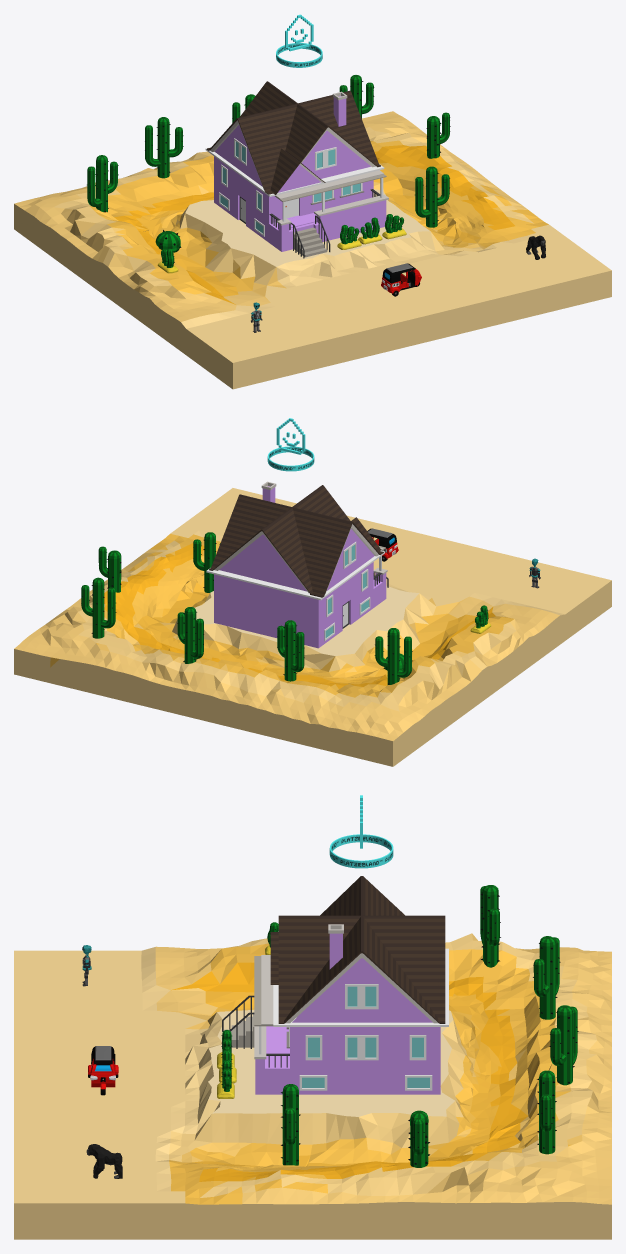
3 views of the same model, one above another, from view 1: azimuth 30°, elevation 25°; view 2: azimuth 150°, elevation 25°; view 3: azimuth 270°, elevation 25° (orthographic). The views are drawn at different scales.
Visible parts, largest first — view 1: Cube.001, Cube.391, Cylinder.044, Cylinder.037, Cylinder.045, TYPE_PREMIUM, VEHICLES_TUC_TUC, Cylinder.038, Cylinder.042; view 2: Cube.001, Cube.391, Cylinder.042, Cylinder.045, Cylinder.044, Cylinder.043, TYPE_PREMIUM, Cylinder.037, Cylinder.038, VEHICLES_TUC_TUC; view 3: Cube.001, Cube.391, Cylinder.044, Cylinder.043, Cylinder.045, Cylinder.042, Cylinder.037, TYPE_PREMIUM, VEHICLES_TUC_TUC, Cylinder.038, ANIMAL_GORILA.
Part boxes in pixels (x1,y1,x2,y2): Cube.001: (14, 111, 611, 389); Cube.391: (205, 81, 388, 258); Cylinder.044: (145, 117, 183, 178); Cylinder.037: (415, 166, 449, 227); Cylinder.045: (87, 155, 118, 212); TYPE_PREMIUM: (276, 14, 322, 67); VEHICLES_TUC_TUC: (381, 263, 421, 296); Cylinder.038: (426, 112, 450, 158); Cylinder.042: (339, 75, 374, 118); Cube.001: (14, 488, 611, 766); Cube.391: (206, 481, 388, 648); Cylinder.042: (81, 577, 116, 638); Cylinder.045: (374, 628, 412, 684); Cylinder.044: (277, 620, 304, 681); Cylinder.043: (177, 607, 203, 663); TYPE_PREMIUM: (267, 418, 314, 471); Cylinder.037: (193, 532, 220, 592); Cylinder.038: (98, 546, 121, 592); VEHICLES_TUC_TUC: (367, 528, 398, 561); Cube.001: (14, 933, 611, 1239); Cube.391: (222, 876, 448, 1094); Cylinder.044: (533, 936, 560, 1019); Cylinder.043: (549, 1005, 578, 1085); Cylinder.045: (480, 885, 500, 967); Cylinder.042: (537, 1070, 556, 1154); Cylinder.037: (281, 1084, 300, 1165); TYPE_PREMIUM: (329, 795, 393, 868); VEHICLES_TUC_TUC: (88, 1046, 118, 1095); Cylinder.038: (408, 1110, 429, 1167); ANIMAL_GORILA: (86, 1144, 122, 1178).
Bounding box in the file's own units: 4002 × 2437 × 4001.
Materials: 37 (3 with a texture image).
